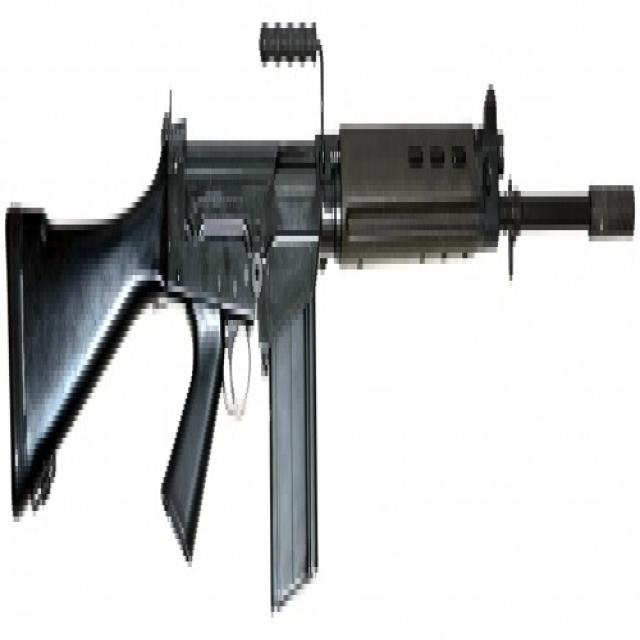rifle: (3, 1, 637, 621)
